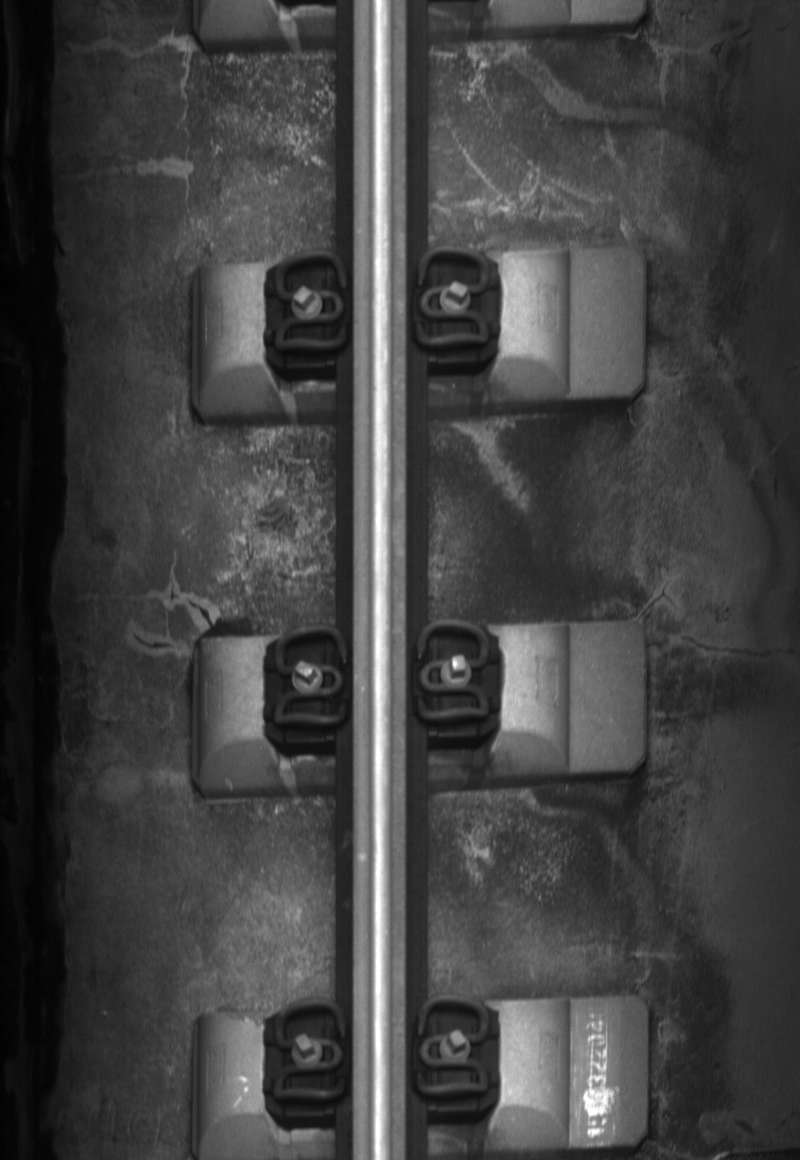l_faster: (268, 244, 353, 361), (267, 991, 352, 1108), (269, 621, 352, 737)
r_faster: (409, 613, 494, 730), (411, 244, 494, 353), (412, 993, 493, 1101)
